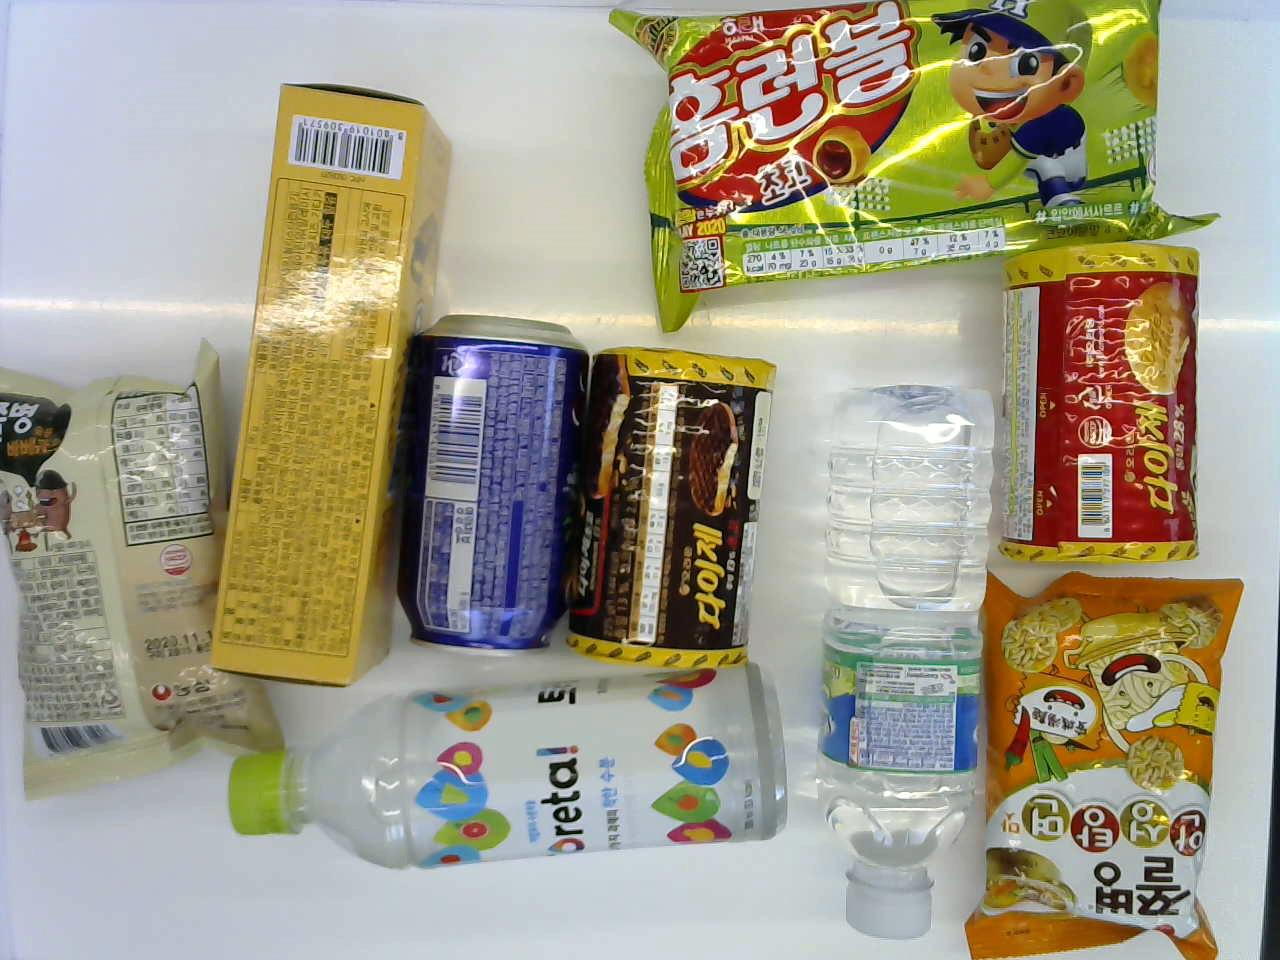buttering: (205, 77, 434, 683)
diget_choco: (574, 334, 776, 686)
diget_ori: (1001, 221, 1203, 573)
homerunball: (643, 0, 1161, 263)
jjolbyung_noodle: (984, 567, 1243, 952)
jjolbyung_ori: (0, 338, 230, 805)
samdasu: (805, 388, 998, 939)
toreta: (220, 657, 777, 860)
welchs: (392, 301, 594, 653)
